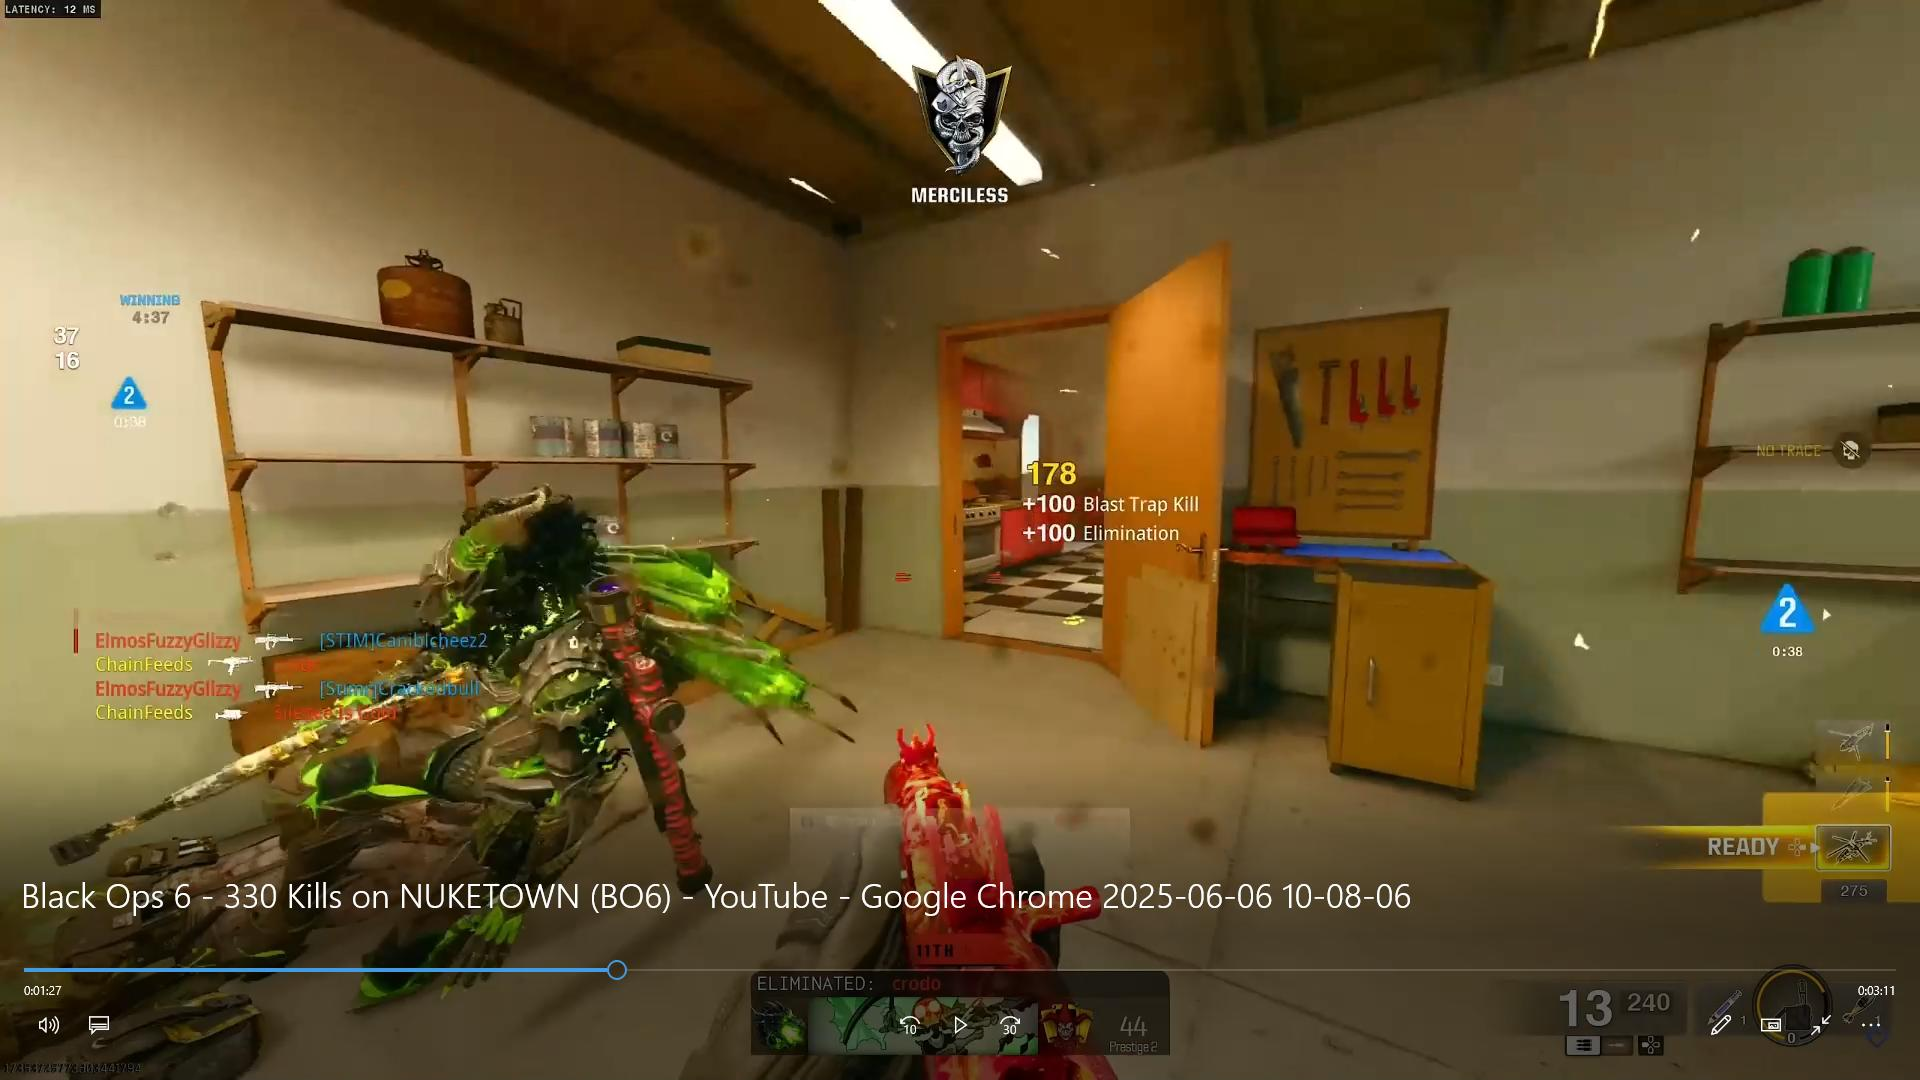Enemy: (295, 485, 764, 881)
